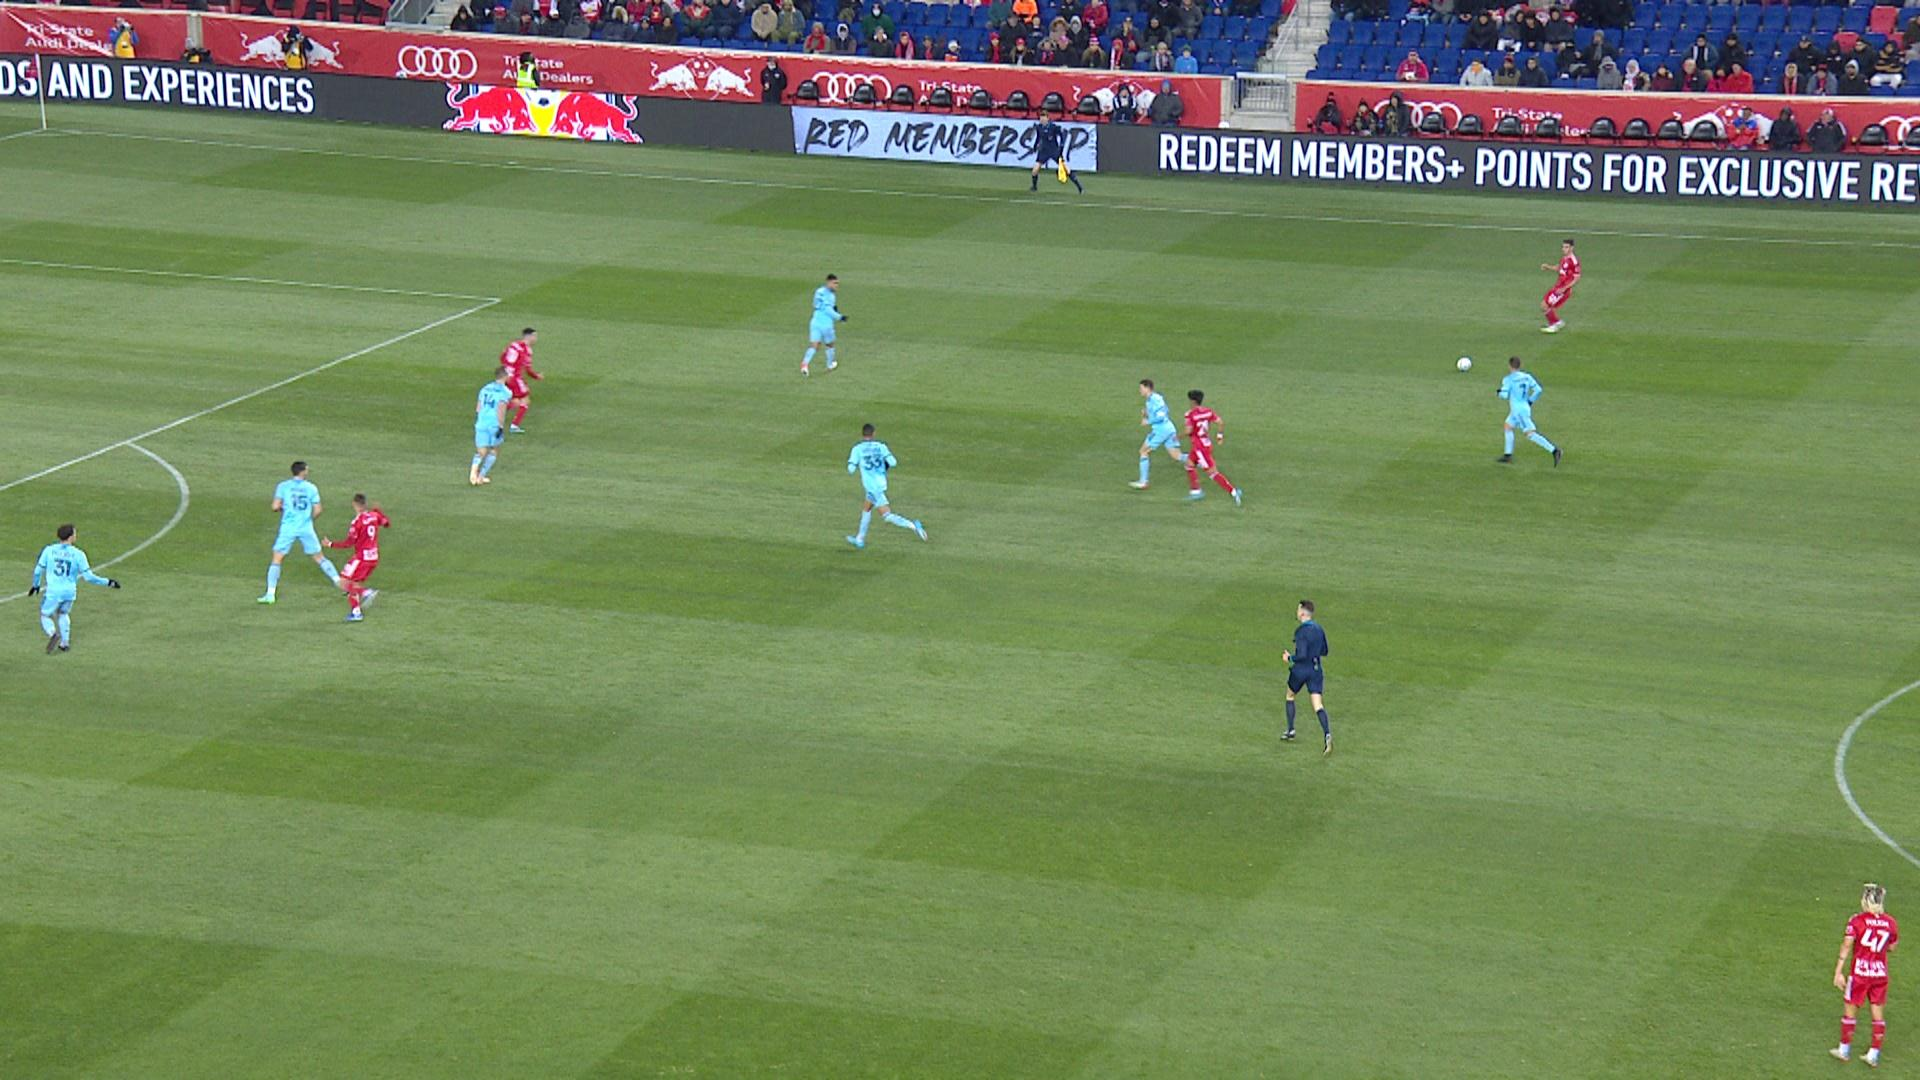football: (1455, 356, 1474, 373)
